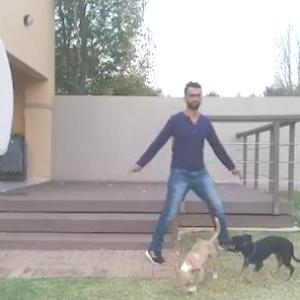land: (127, 95, 231, 267)
